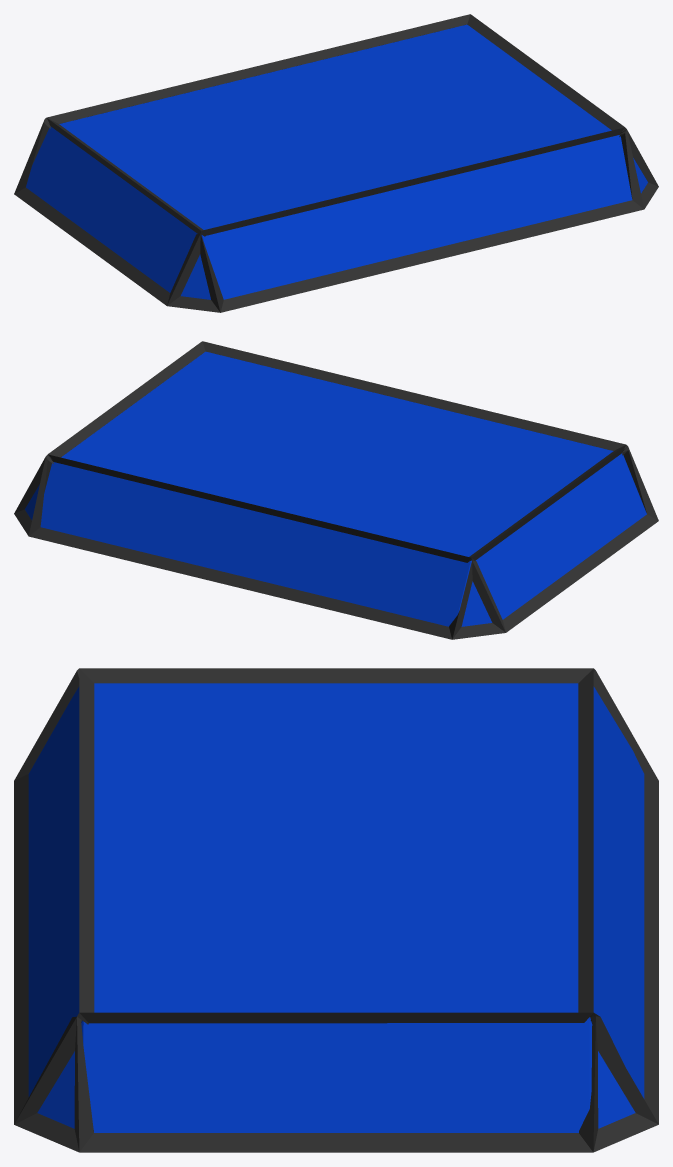
Rendered from baseModelE.glb.
The picture shows the model from 3 angles, top to bottom: view 1: azimuth 30°, elevation 25°; view 2: azimuth 150°, elevation 25°; view 3: azimuth 270°, elevation 25°; orthographic projection. The views are drawn at different scales.
Visible parts, largest first — view 1: 立方体032, 立方体033; view 2: 立方体032, 立方体033; view 3: 立方体032, 立方体033.
Boxes of the visible parts, x1,y1,x2,y2 form: 立方体032: (26,24,647,299); 立方体033: (14,14,658,312); 立方体032: (25,351,646,626); 立方体033: (14,341,658,639); 立方体032: (28,683,644,1132); 立方体033: (14,668,658,1152).
Bounding box in the file's own units: 1 × 0.1318 × 0.6836.
